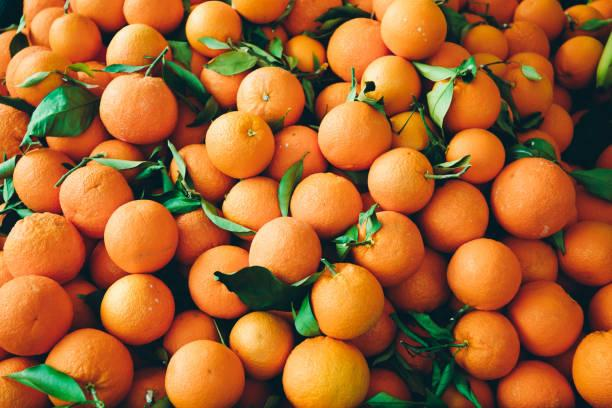orange: (494, 138, 596, 234), (508, 55, 606, 152), (242, 224, 346, 298), (345, 220, 455, 285), (99, 266, 183, 349), (258, 349, 374, 408), (25, 336, 126, 402), (13, 218, 103, 290), (343, 44, 447, 106), (232, 54, 320, 122), (183, 246, 275, 311), (61, 164, 146, 230), (177, 338, 255, 408), (294, 173, 388, 231), (103, 19, 205, 72), (311, 255, 391, 320), (0, 284, 70, 357), (501, 357, 601, 408), (438, 77, 519, 138), (454, 19, 570, 61), (199, 110, 274, 173), (519, 0, 612, 50), (378, 156, 457, 214), (118, 217, 188, 282), (316, 96, 382, 161), (234, 317, 301, 377), (181, 0, 256, 53), (455, 250, 521, 304), (0, 56, 68, 106), (44, 24, 119, 69), (437, 189, 503, 240), (564, 40, 612, 106), (334, 19, 401, 63), (388, 1, 455, 44), (453, 313, 510, 360)
